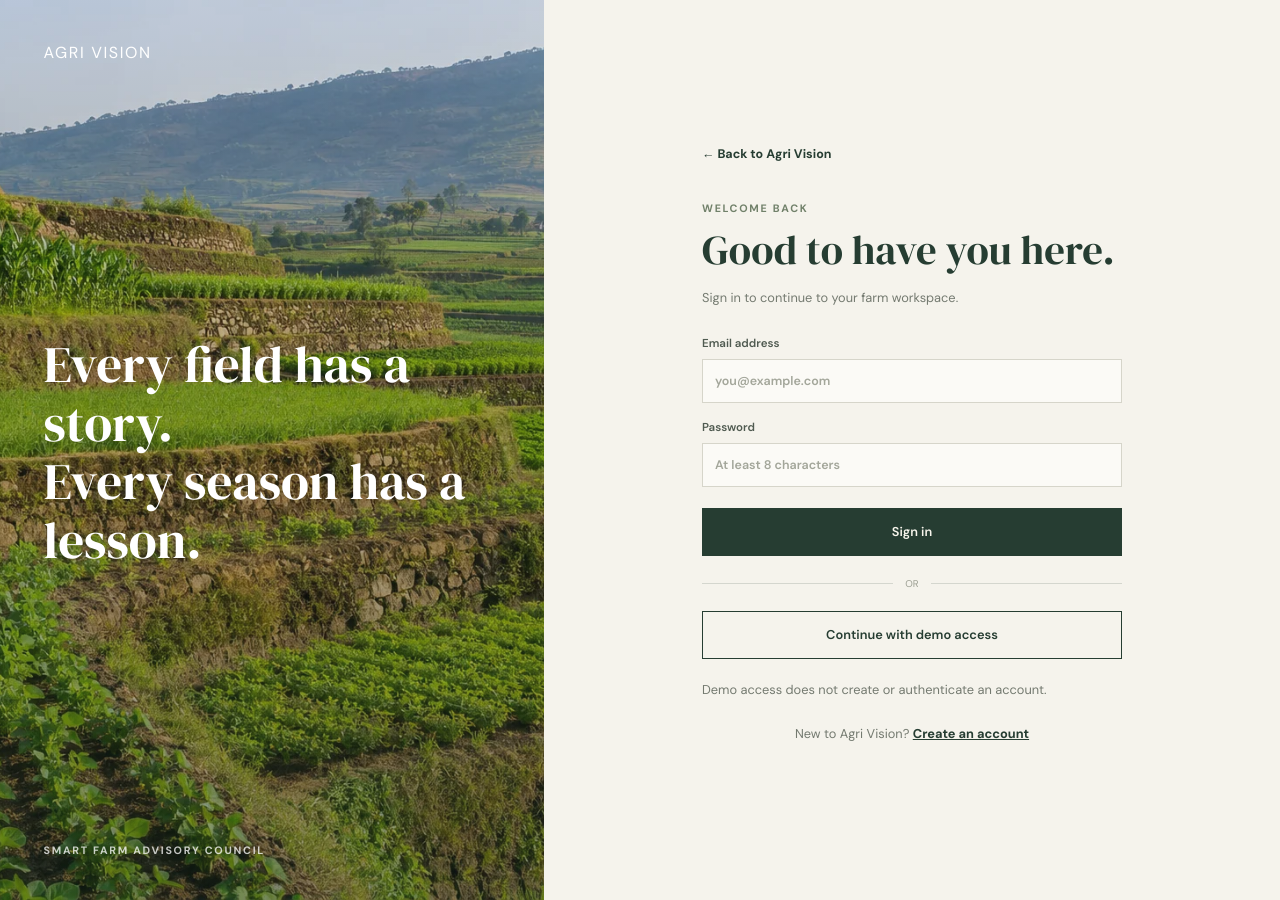
Scenario: Demo access and account registration UI › shows a clear error and stays on login when backend demo access fails
Click the button "Continue with demo access" at (912, 634), box x1=702 y1=610 x2=1122 y2=658
(page scrolled)
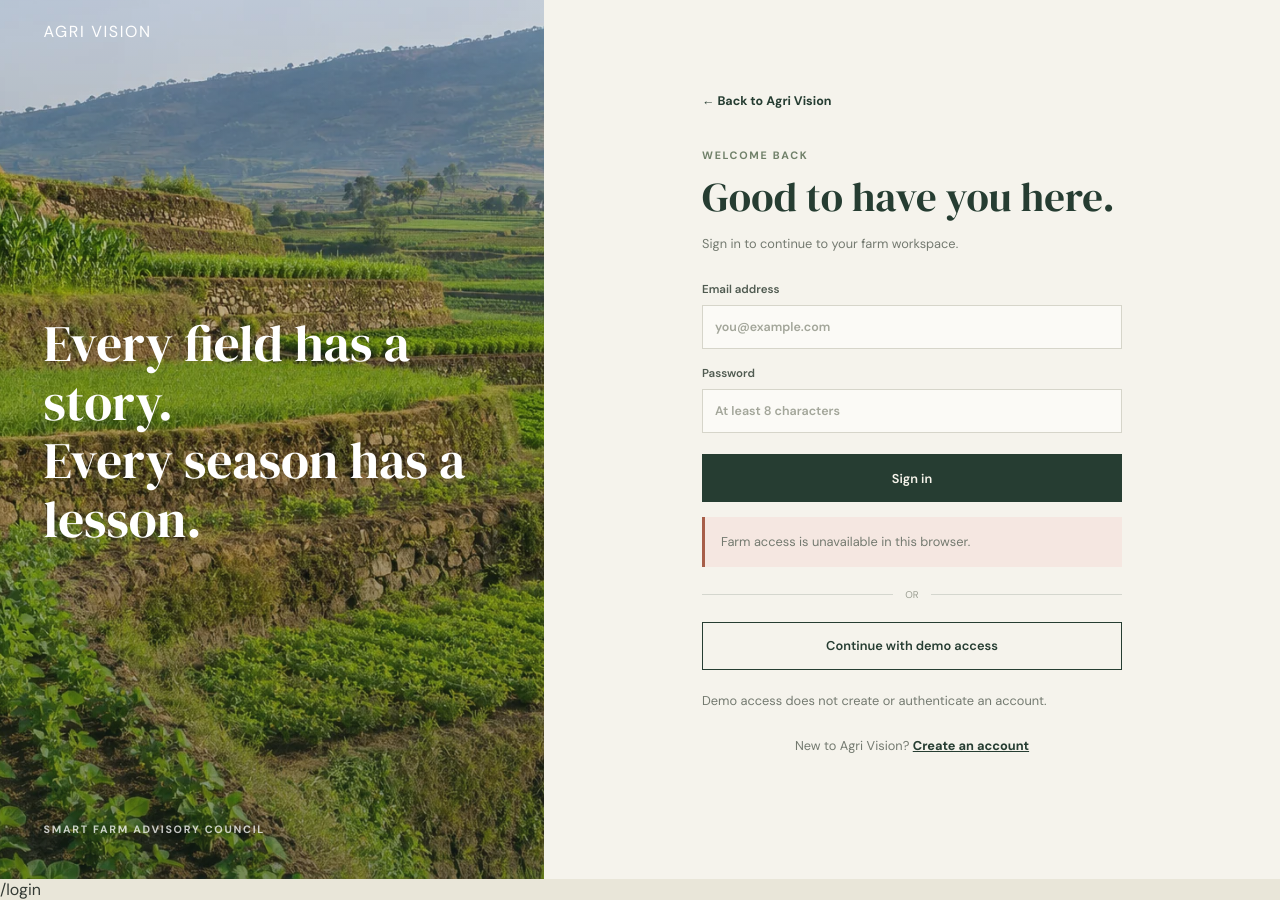
expect the text "/login" is shown: met, box x1=0 y1=879 x2=41 y2=899
expect the text "Farm access is unavailable in this browser." is shown: met, box x1=702 y1=517 x2=1122 y2=567
